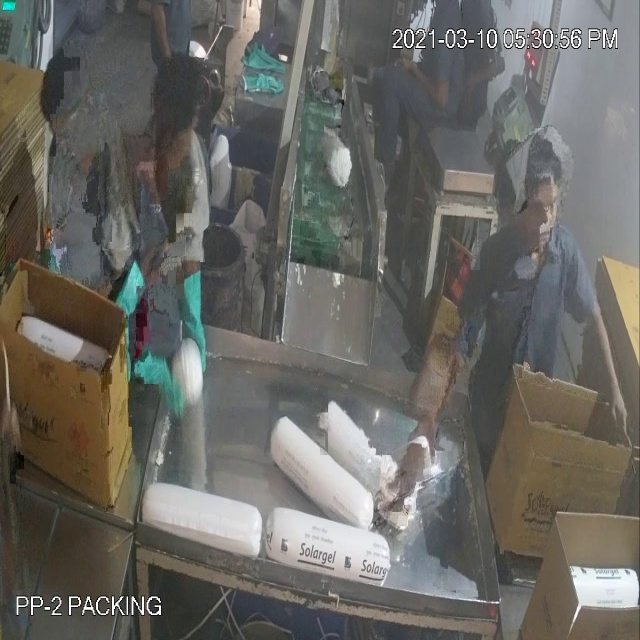Guantes: (177, 260, 214, 387)
Sin_guantes: (580, 289, 635, 450), (399, 37, 447, 116)
